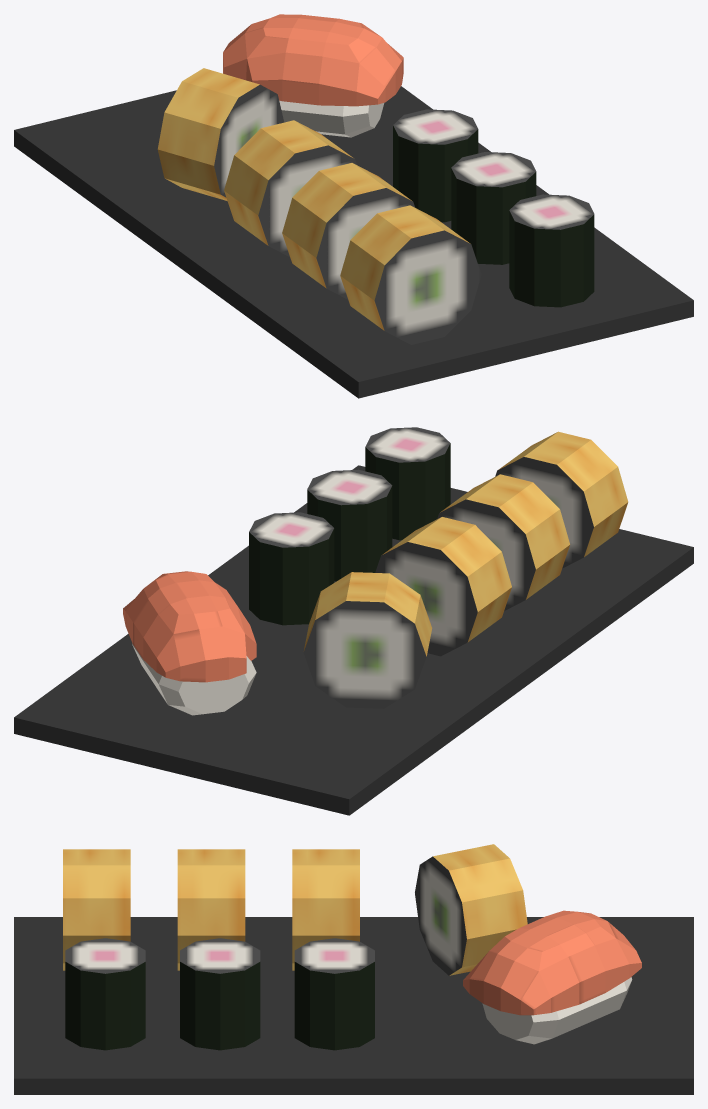
Rendered from sushi.fbx.
3 views of the same model, one above another, from view 1: azimuth 30°, elevation 25°; view 2: azimuth 150°, elevation 25°; view 3: azimuth 270°, elevation 25° (orthographic).
Visible parts, largest first — view 1: Liquid Domain; view 2: Liquid Domain; view 3: Liquid Domain.
Part boxes in pixels (x1,y1,x2,y2): Liquid Domain: [14, 14, 693, 398]; Liquid Domain: [14, 427, 693, 815]; Liquid Domain: [14, 844, 693, 1094].
Bounding box in the file's own units: 0.2378 × 0.0833 × 0.423.
1 material, 1 textured.
